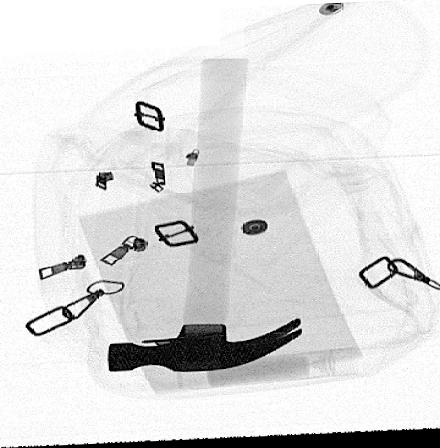Hammer: (106, 59, 304, 374)
